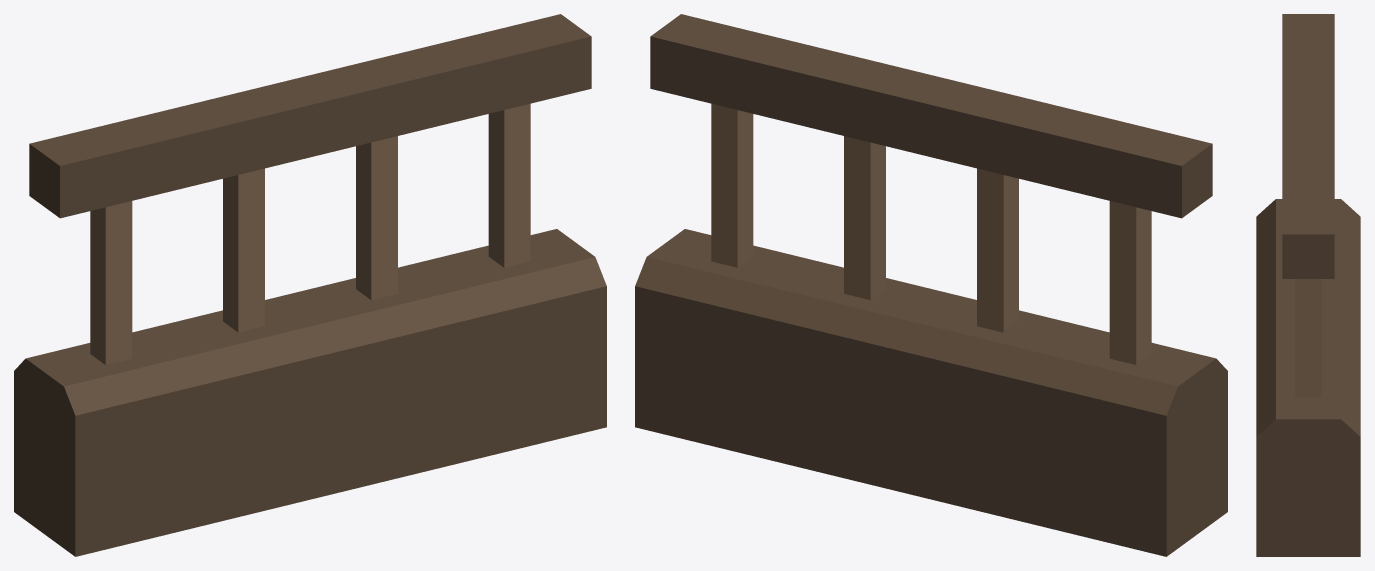
The model's file is Wood_Railing_Straight.glb.
3 views of the same model, side by side, from view 1: azimuth 30°, elevation 25°; view 2: azimuth 150°, elevation 25°; view 3: azimuth 270°, elevation 25° (orthographic). The views are drawn at different scales.
Parts seen in each view (by area): view 1: Wood_Railing_Straight; view 2: Wood_Railing_Straight; view 3: Wood_Railing_Straight.
Boxes of the visible parts, x1=… form: Wood_Railing_Straight: x1=14, y1=14, x2=606, y2=556; Wood_Railing_Straight: x1=635, y1=14, x2=1227, y2=556; Wood_Railing_Straight: x1=1256, y1=14, x2=1360, y2=556.
Bounding box in the file's own units: 1 × 0.6826 × 0.2.
